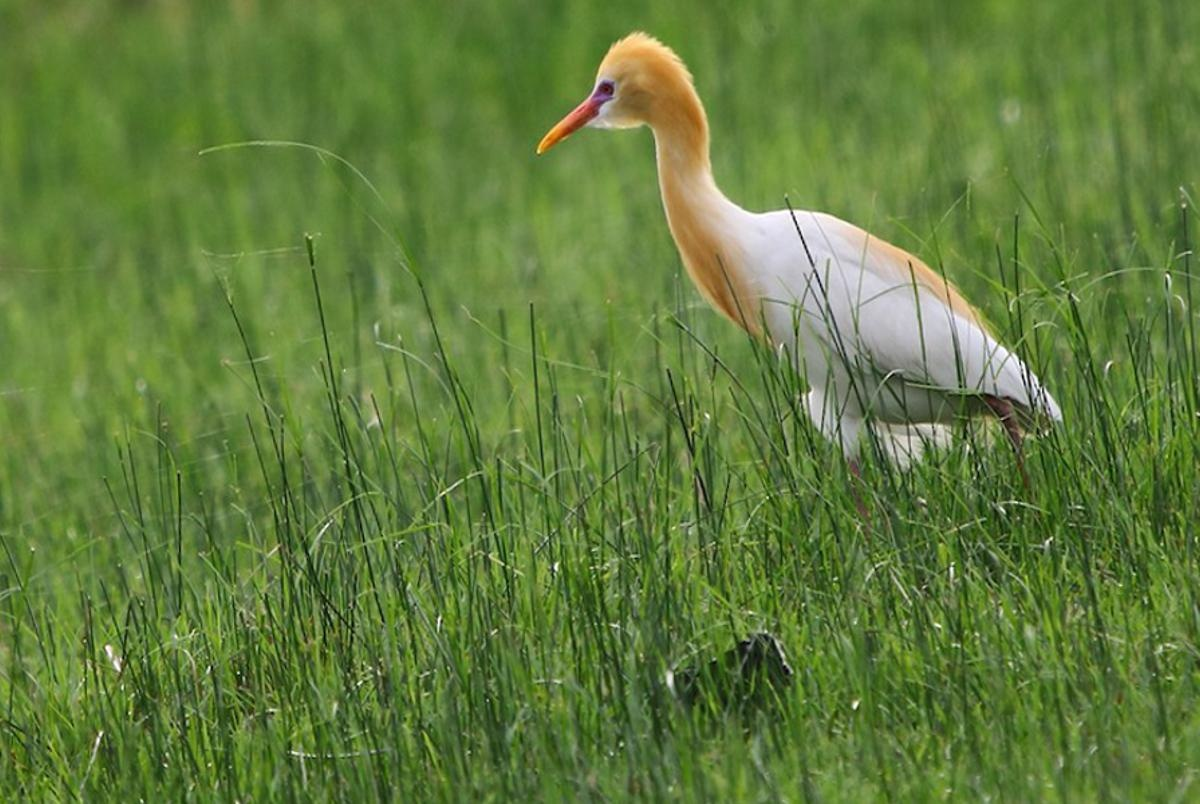egret: (529, 35, 1052, 481)
